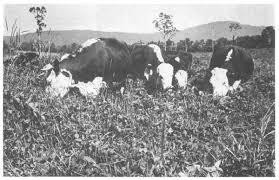cow: (45, 38, 131, 99), (207, 45, 254, 99), (133, 42, 175, 94), (173, 51, 194, 92)
